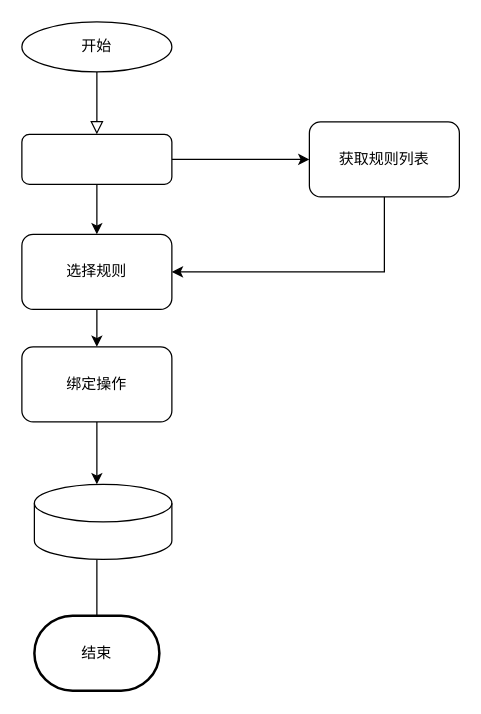
Image size: 481x714. Some labels were removed from this diagram. The shapes that lost their labels are listed below. From the top down, each one's centre as x and y in pixels, then its label:
point (96, 158): 进入绑定页面选择规则类型
point (102, 521): 存储规则-业务关联表
